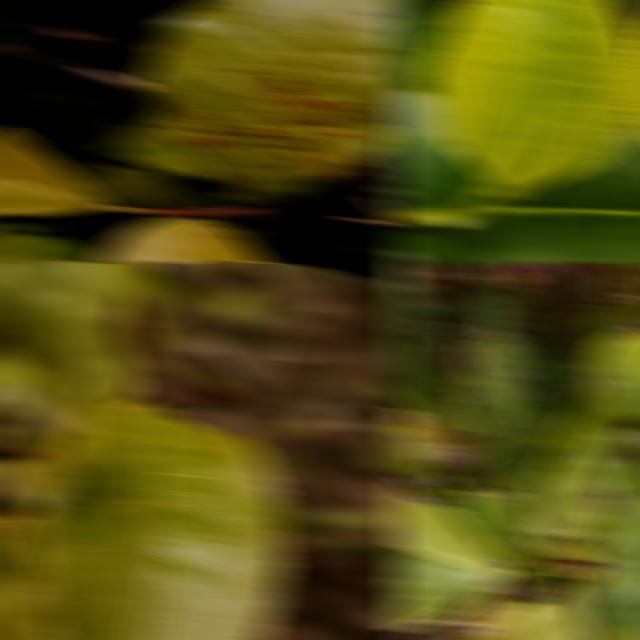Leaf: (28, 400, 289, 640), (139, 0, 404, 204), (422, 0, 640, 185), (395, 123, 640, 262), (0, 262, 163, 422), (532, 327, 640, 547), (388, 484, 508, 631), (455, 292, 543, 491), (0, 457, 68, 640), (576, 462, 640, 640), (388, 408, 496, 501), (388, 87, 461, 212), (450, 473, 544, 567), (100, 114, 226, 182), (92, 215, 268, 262), (0, 344, 77, 431), (388, 262, 429, 410), (401, 152, 494, 209), (521, 580, 593, 640), (0, 177, 104, 216), (449, 601, 551, 640), (556, 331, 603, 415), (408, 383, 474, 433), (486, 565, 562, 608), (448, 589, 509, 640), (449, 283, 493, 346), (574, 303, 633, 345), (0, 231, 77, 262), (610, 262, 640, 303), (617, 299, 640, 327)
